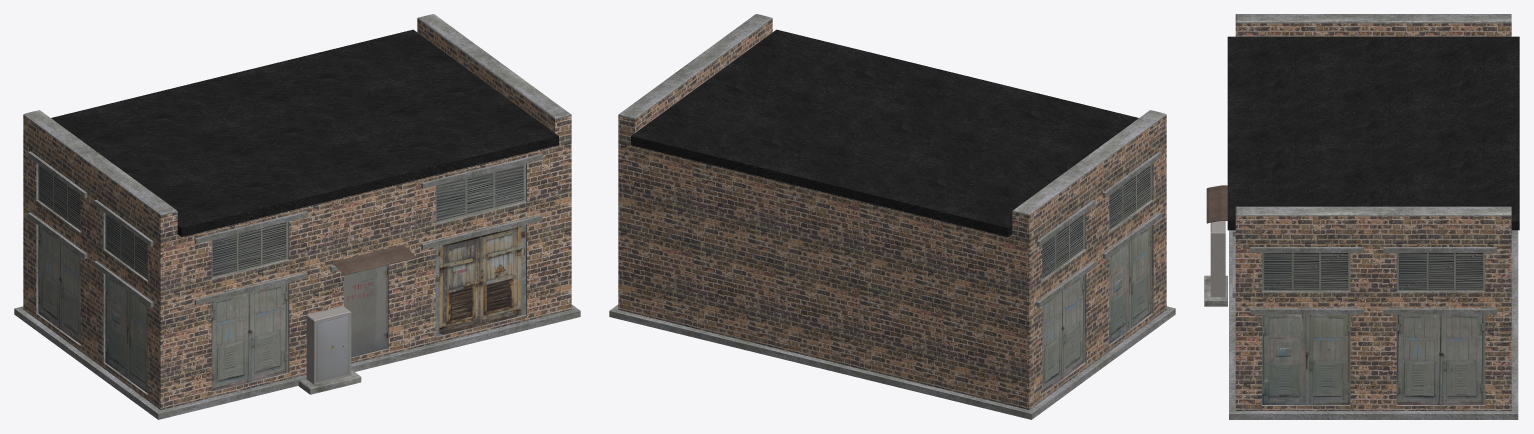
Rendered from substation.obj.
3 renders of one model, left to right at view 1: azimuth 30°, elevation 25°; view 2: azimuth 150°, elevation 25°; view 3: azimuth 270°, elevation 25°, orthographic.
Parts seen in each view (by area): view 1: substation; view 2: substation; view 3: substation.
Boxes of the visible parts, bbox=[...] form: substation: bbox=[14, 14, 580, 419]; substation: bbox=[609, 14, 1175, 419]; substation: bbox=[1204, 14, 1519, 419].
Bounding box in the file's own units: 9.82 × 4.49 × 6.32.
1 material, 1 textured.
